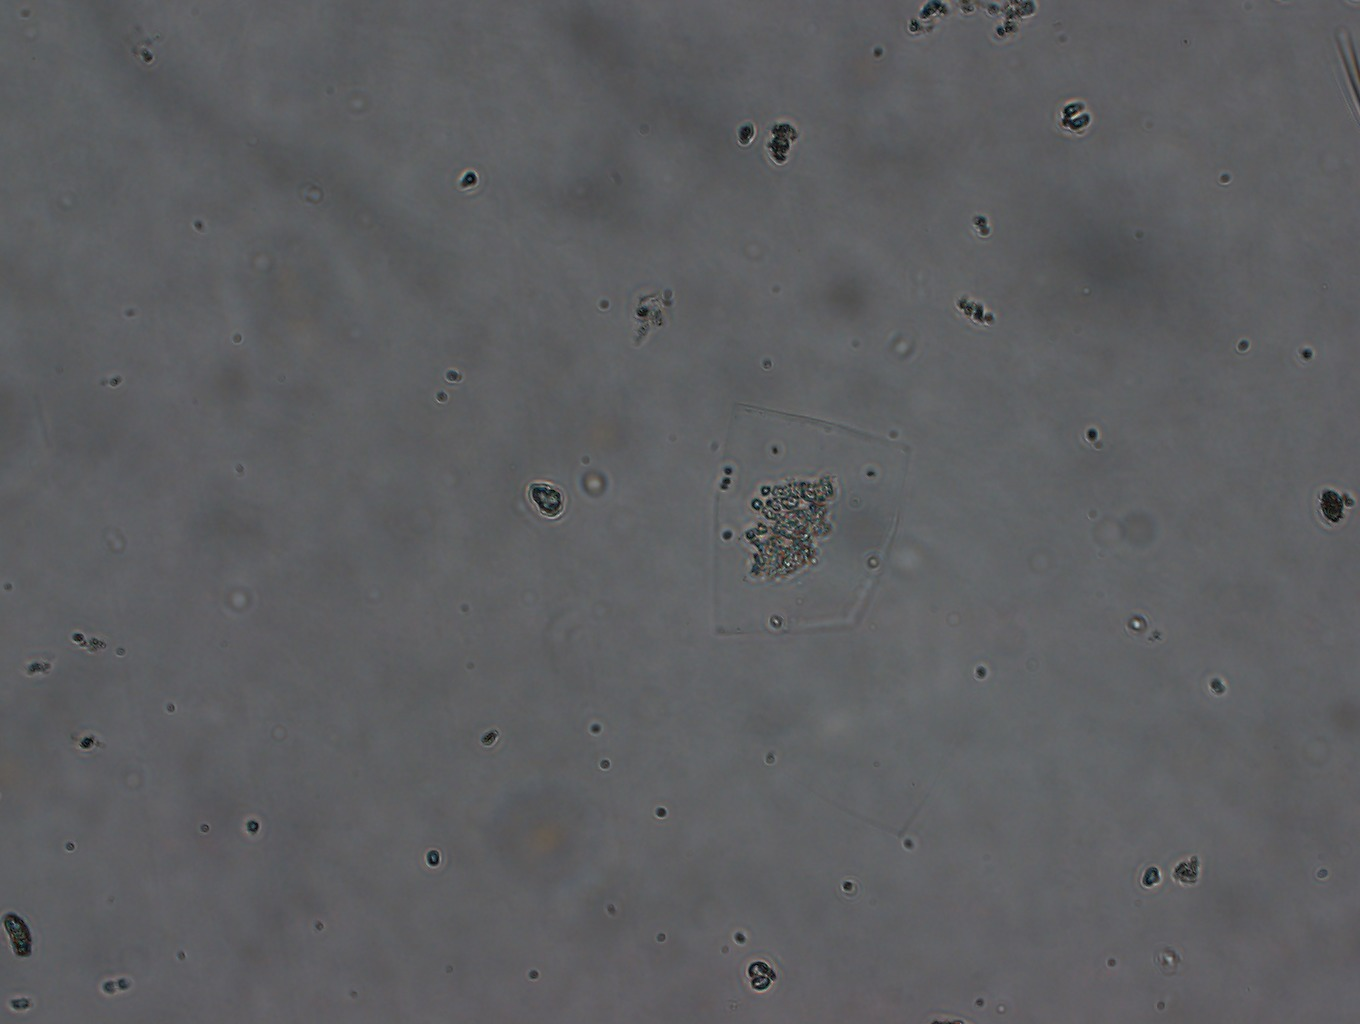helicotheca: (683, 383, 928, 655)
